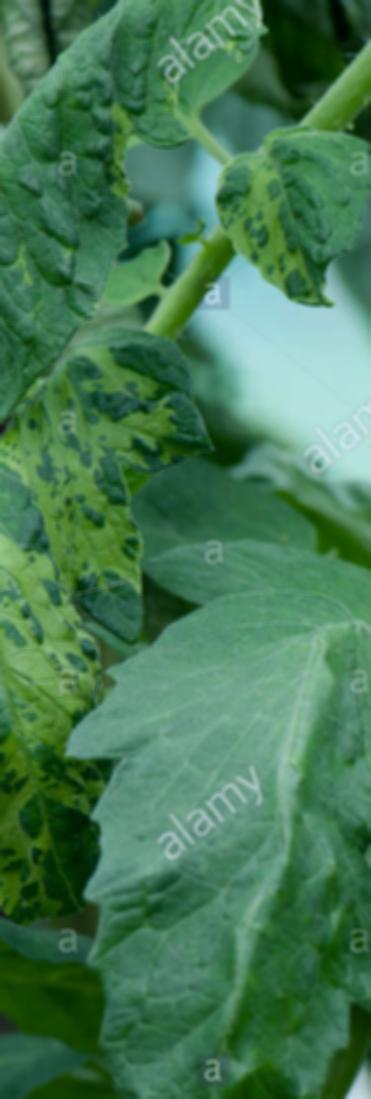Tomato leaf mosaic virus: (62, 562, 371, 1099), (0, 0, 264, 446), (0, 274, 178, 930), (183, 135, 371, 325)
